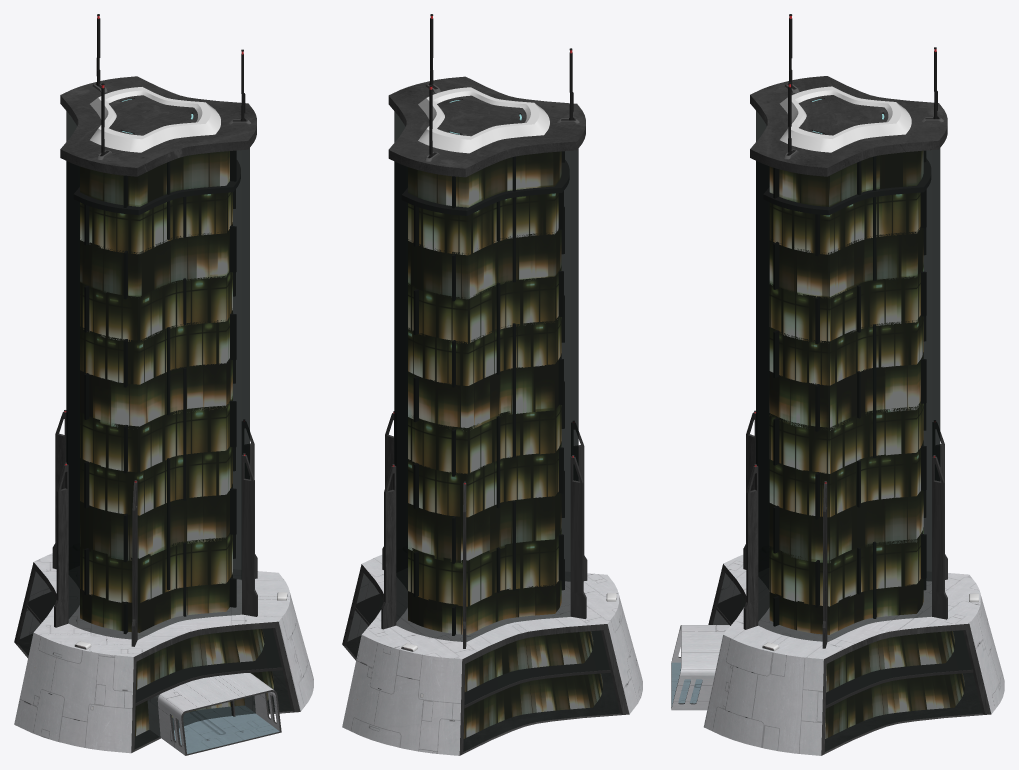
The model's file is scifi1.glb.
3 views of the same model, side by side, from view 1: azimuth 30°, elevation 25°; view 2: azimuth 150°, elevation 25°; view 3: azimuth 270°, elevation 25° (orthographic).
Visible parts, largest first — view 1: Object_3, Object_13, Object_7, Object_15, Object_10, Object_9, Object_11, Object_12, Object_8, Object_2; view 2: Object_3, Object_13, Object_15, Object_7, Object_10, Object_9, Object_11, Object_12, Object_8; view 3: Object_3, Object_13, Object_15, Object_7, Object_10, Object_9, Object_11, Object_12, Object_8, Object_2.
Boxes of the visible parts, x1,y1,x2,y2 form: Object_3: [18, 111, 291, 748]; Object_13: [14, 76, 300, 755]; Object_7: [14, 553, 313, 755]; Object_15: [80, 151, 273, 736]; Object_10: [80, 272, 232, 515]; Object_9: [80, 192, 232, 602]; Object_11: [80, 359, 232, 632]; Object_12: [84, 14, 247, 633]; Object_8: [74, 87, 287, 649]; Object_2: [172, 706, 279, 753]; Object_3: [346, 111, 619, 751]; Object_13: [342, 76, 629, 755]; Object_15: [408, 151, 602, 738]; Object_7: [342, 555, 642, 755]; Object_10: [408, 267, 561, 516]; Object_9: [408, 193, 561, 606]; Object_11: [408, 354, 561, 634]; Object_12: [414, 14, 575, 635]; Object_8: [401, 87, 616, 651]; Object_3: [713, 111, 982, 751]; Object_13: [671, 76, 991, 755]; Object_15: [770, 151, 964, 738]; Object_7: [671, 555, 1004, 755]; Object_10: [770, 266, 923, 516]; Object_9: [770, 193, 923, 606]; Object_11: [770, 353, 923, 634]; Object_12: [773, 14, 939, 626]; Object_8: [762, 86, 978, 651]; Object_2: [671, 662, 702, 706].
Size of the model in its own units: 13.95 by 29.52 by 13.99.
14 materials, 8 textured.
